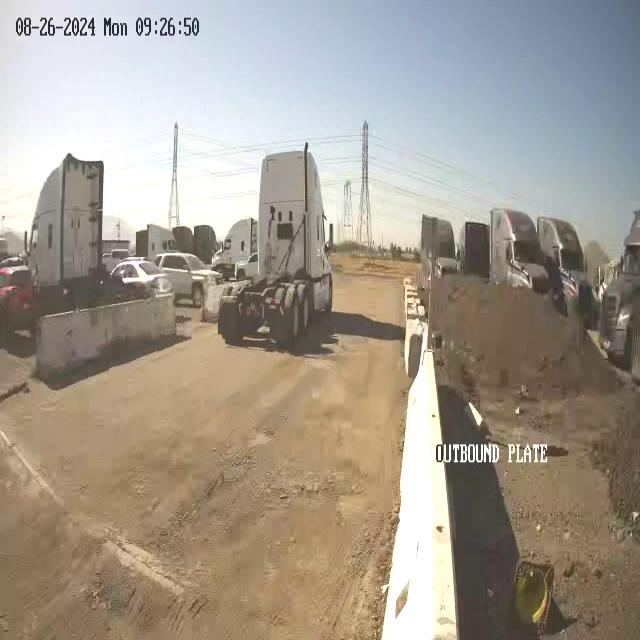BOBTAIL: (216, 141, 334, 348)
